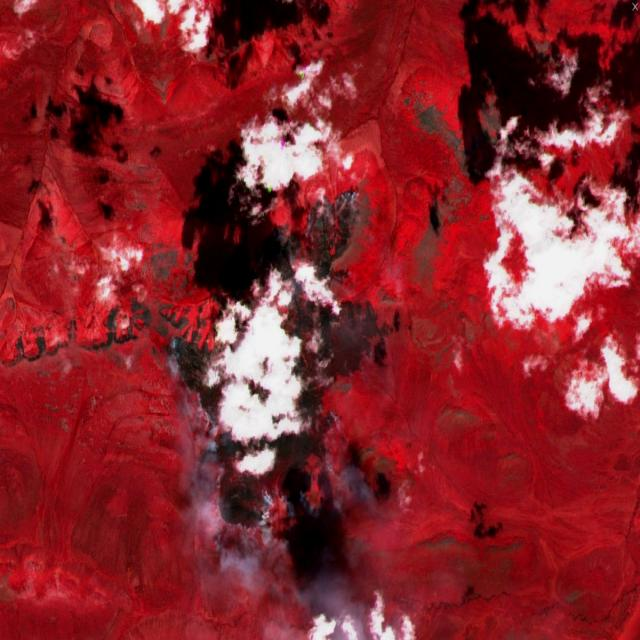fire: (163, 178, 402, 552)
